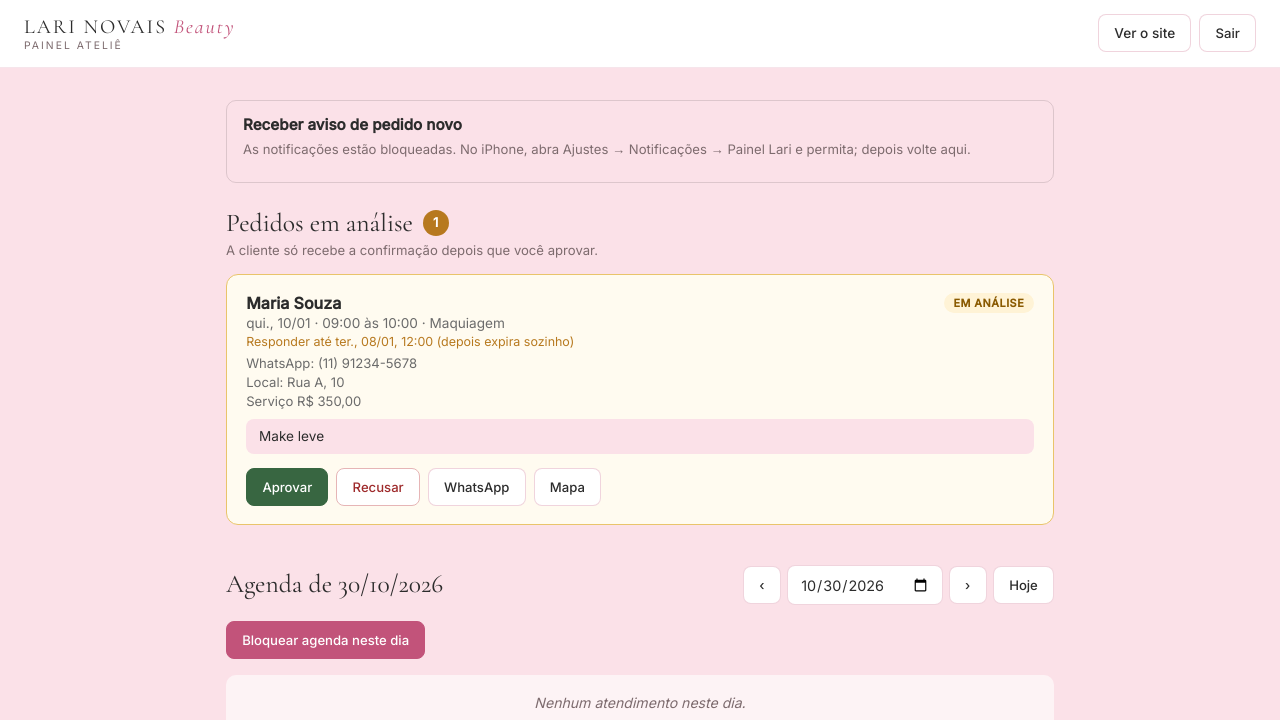
Test: Painel Ateliê › abre direto no painel quando o aparelho já está conectado, e "Sair" esquece o login
This screenshot has width=1280, height=720.
Check: the element "Pedidos em análise" is shown, box [226,207,1054,525]
Check: the button "Entrar" is not shown
Click the button "Sair" at (1228, 33), box [1199,14,1256,52]
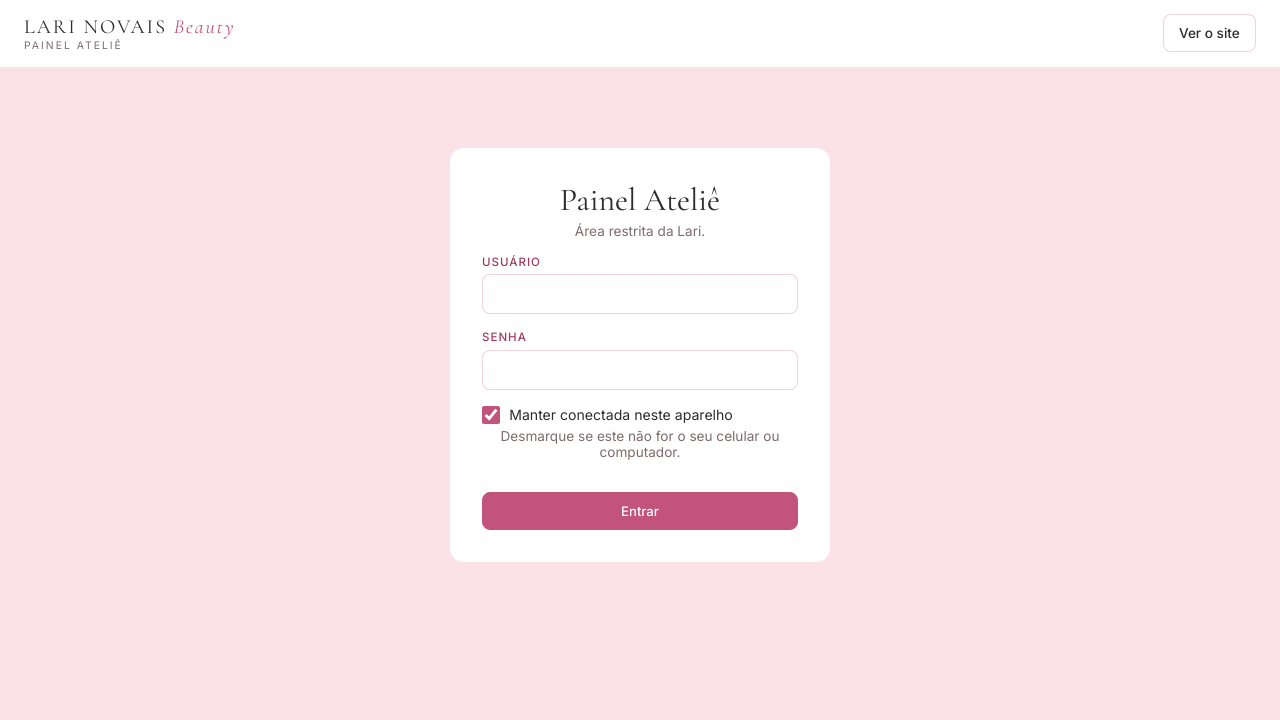
Check: the button "Entrar" is shown, box [482,492,798,530]
